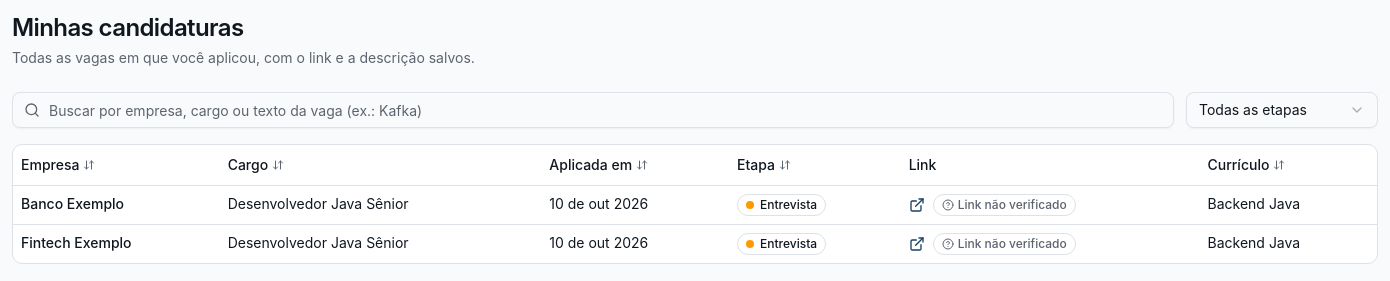
it: ApplicationsPage › busca no texto salvo das vagas e mostra o trecho encontrado
Expected: the text "Fintech Exemplo" is shown, [21,234,132,250]
Type "kafka" into the field named "Buscar candidaturas".
click(593, 110); type("kafka")  # box [12,92,1174,128]
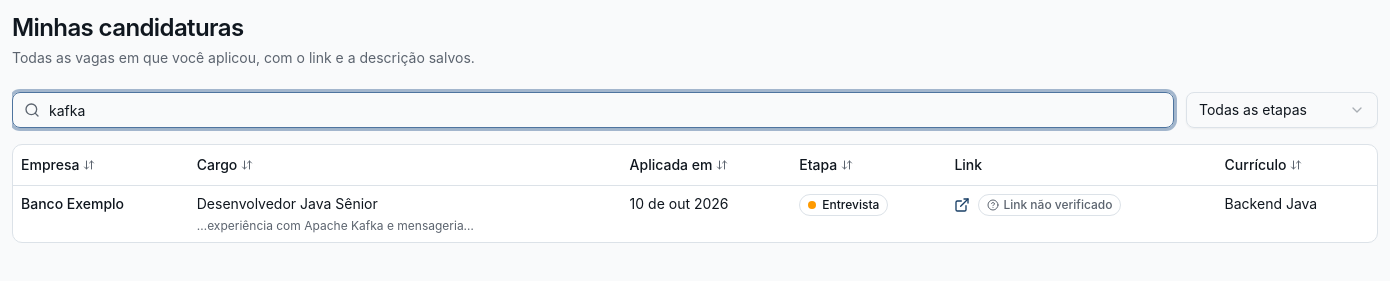
Now the text "…experiência com Apache Kafka e mensageria…" is shown, box [197,218,474,232]
Now the text "Fintech Exemplo" is gone
